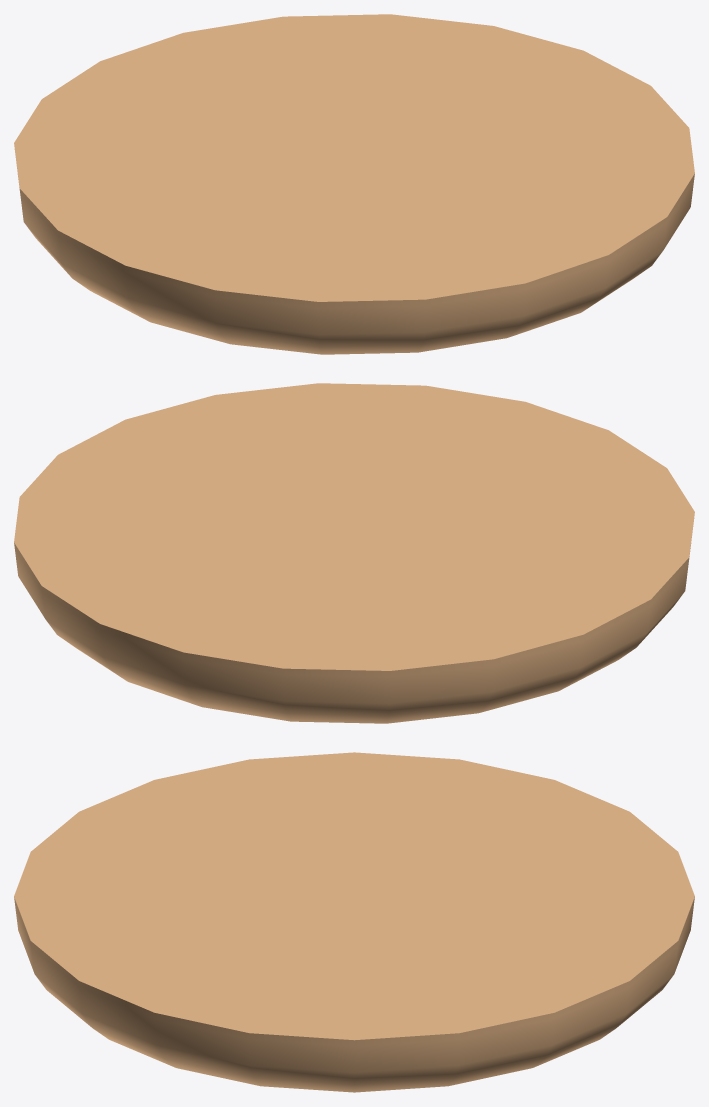
The model's file is BottomBun02.fbx.
3 renders of one model, top to bottom at view 1: azimuth 30°, elevation 25°; view 2: azimuth 150°, elevation 25°; view 3: azimuth 270°, elevation 25°, orthographic.
Visible parts, largest first — view 1: BottomBun; view 2: BottomBun; view 3: BottomBun.
Boxes of the visible parts, bbox=[...] form: BottomBun: bbox=[14, 14, 694, 354]; BottomBun: bbox=[14, 383, 694, 723]; BottomBun: bbox=[14, 752, 694, 1092].
Size of the model in its own units: 10 by 1.16 by 10.
